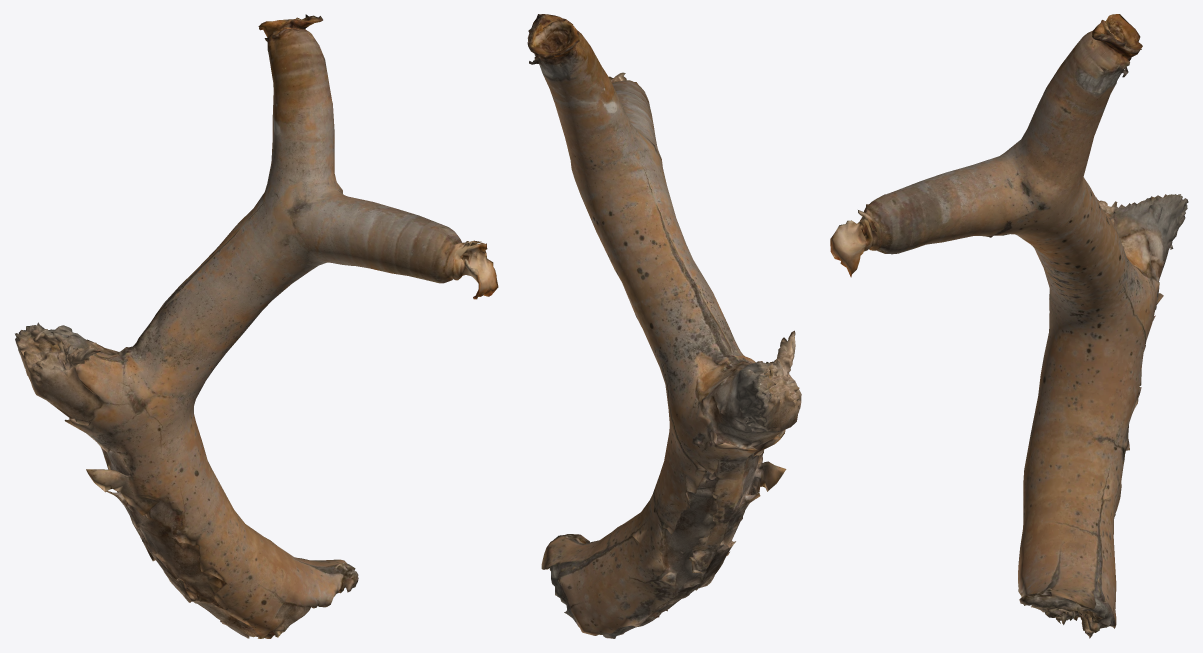
File: dead_quiver_branch_01.glb
The picture shows the model from 3 angles, left to right: view 1: azimuth 30°, elevation 25°; view 2: azimuth 150°, elevation 25°; view 3: azimuth 270°, elevation 25°; orthographic projection. The views are drawn at different scales.
Visible parts, largest first — view 1: dead_quiver_branch_01; view 2: dead_quiver_branch_01; view 3: dead_quiver_branch_01.
Boxes of the visible parts, x1,y1,x2,y2 form: dead_quiver_branch_01: [15, 14, 498, 638]; dead_quiver_branch_01: [527, 14, 801, 638]; dead_quiver_branch_01: [830, 14, 1188, 638].
Bounding box in the file's own units: 0.2549 × 0.4384 × 0.2268.
1 material, 1 textured.
